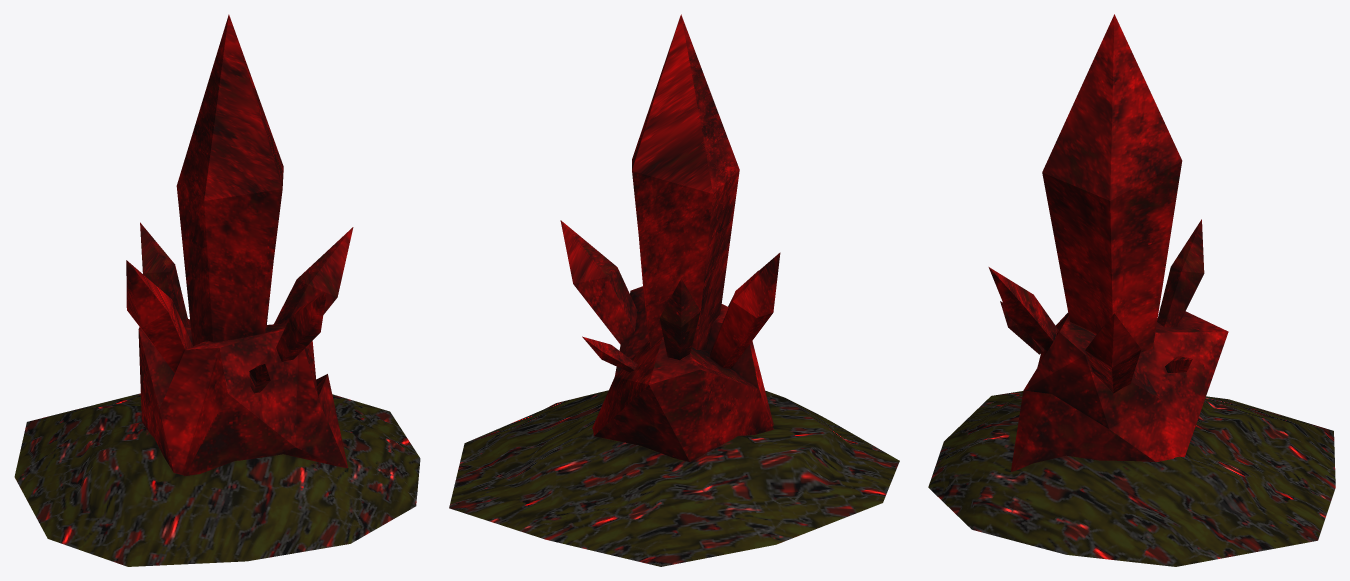
File: kristalRed.gltf
The picture shows the model from 3 angles, left to right: view 1: azimuth 30°, elevation 25°; view 2: azimuth 150°, elevation 25°; view 3: azimuth 270°, elevation 25°; orthographic projection. The views are drawn at different scales.
Parts seen in each view (by area): view 1: Crystal_type3; view 2: Crystal_type3; view 3: Crystal_type3.
Boxes of the visible parts, box(x1,y1,x2,y2) form: Crystal_type3: box(14, 14, 420, 566); Crystal_type3: box(449, 14, 899, 566); Crystal_type3: box(928, 14, 1335, 566).
Size of the model in its own units: 2.78 by 3.21 by 2.57.
1 material, 1 textured.
